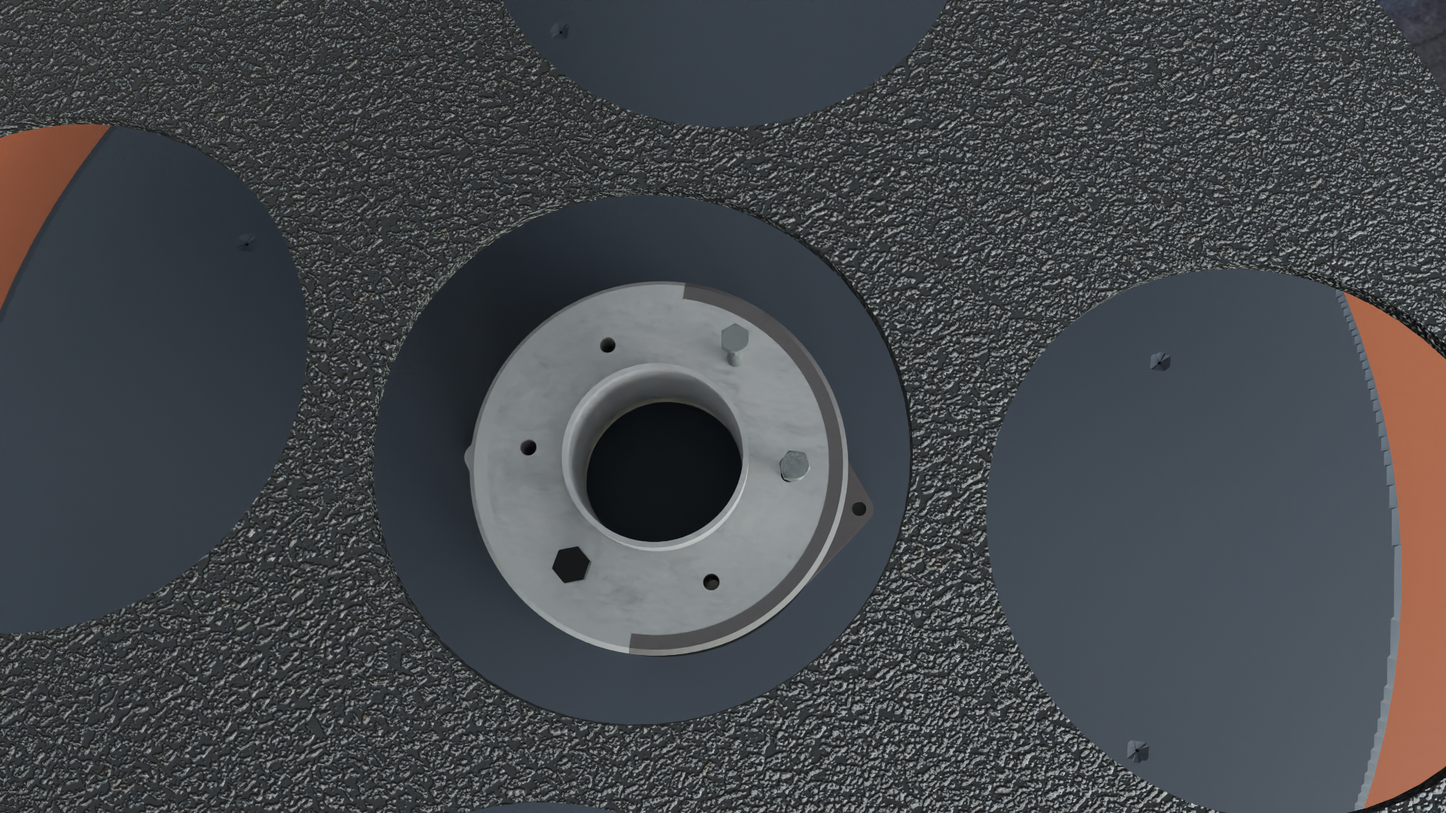bolt: (552, 547, 590, 583), (779, 450, 810, 480), (721, 323, 749, 354)
